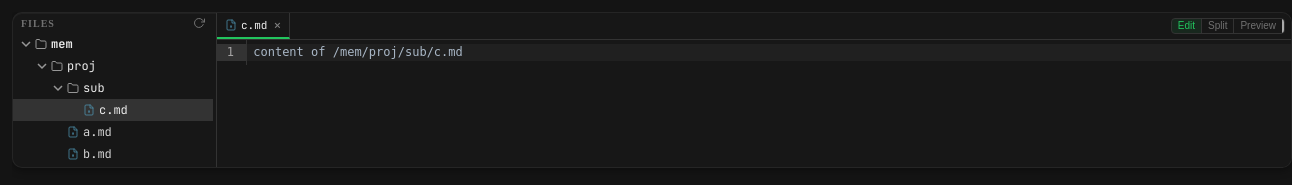
Test: MemoryPanel › opens a preview of a file whose tab is already the preview
Click the button titled "/mem/proj/a.md" at point(113, 132), box top-left (13, 121), bottom-right (213, 143)
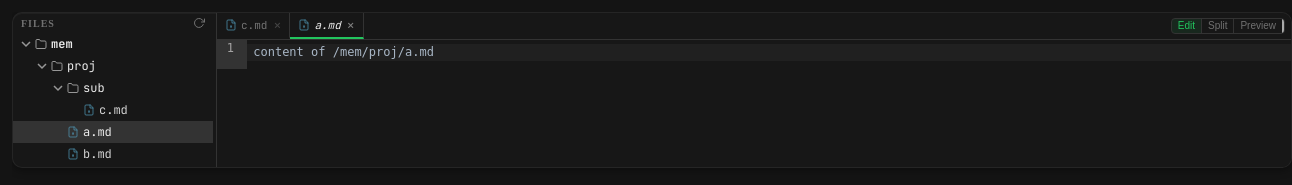
Check: the text box labelled "content of /mem/proj/a.md" is shown, box top-left (247, 44), bottom-right (1291, 61)
Click the button titled "/mem/proj/sub/c.md" at point(254, 26), box top-left (217, 13), bottom-right (290, 39)
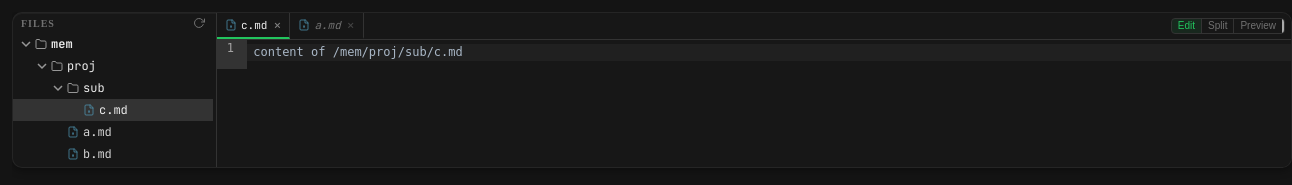
Check: the text box labelled "content of /mem/proj/sub/c.md" is shown, box top-left (247, 44), bottom-right (1291, 61)
Back to the preview file from the tree: the tab is reused, not duplicated.
Click the button titled "/mem/proj/a.md" at point(113, 132), box top-left (13, 121), bottom-right (213, 143)
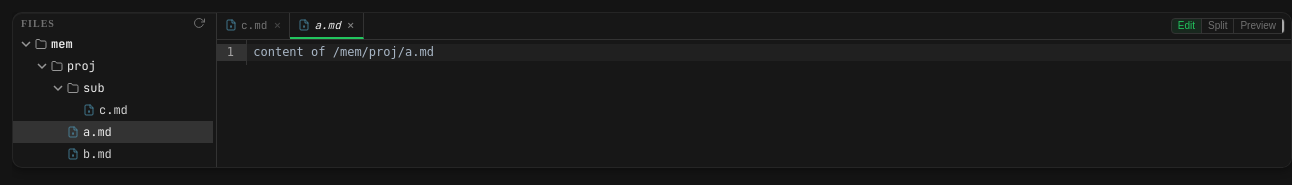
Check: the text box labelled "content of /mem/proj/a.md" is shown, box top-left (247, 44), bottom-right (1291, 61)
